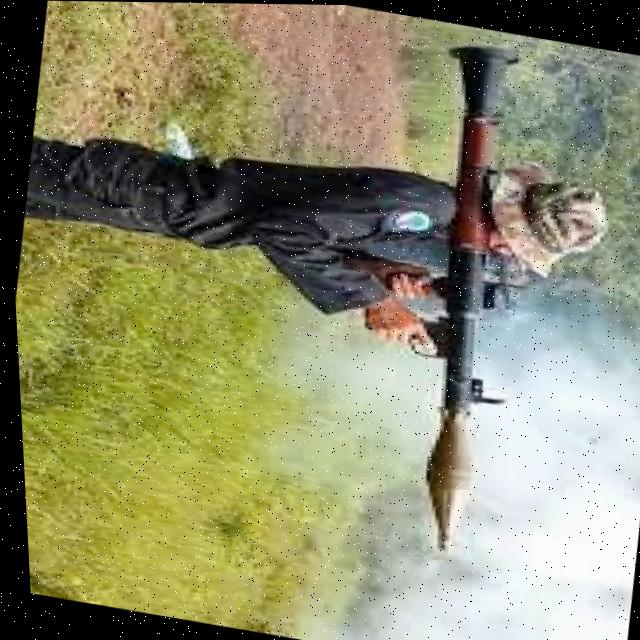rocket: (369, 37, 567, 564)
